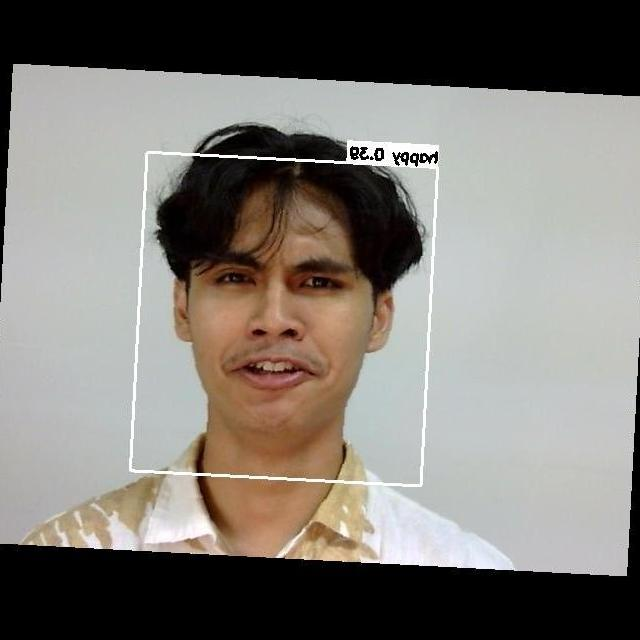Fear: (182, 231, 375, 430)
